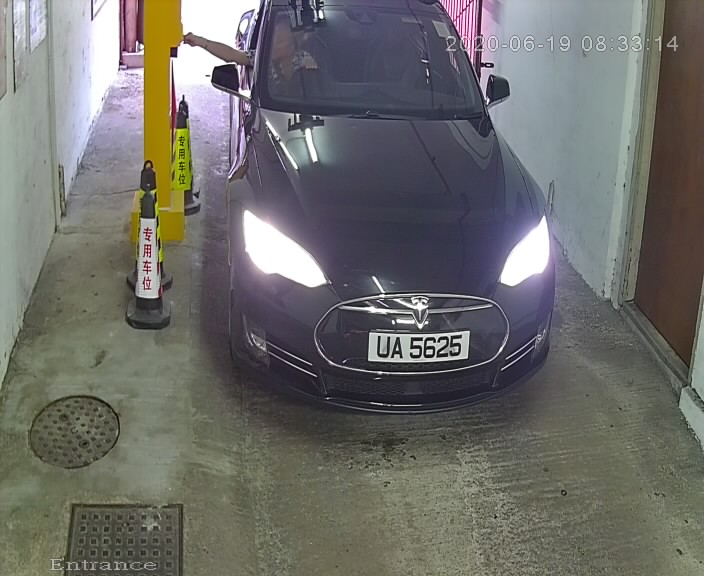bottom_left_lp: (365, 355, 370, 362)
bottom_left_radiator: (321, 349, 335, 364)
bottom_left_windshield: (254, 93, 267, 101)
bottom_right_lp: (465, 355, 472, 361)
bottom_right_radiator: (489, 346, 502, 361)
bottom_right_windshield: (463, 101, 480, 116)
brand: (408, 294, 432, 329)
left_headlight: (236, 206, 332, 291)
right_headlight: (494, 208, 554, 290)
top_left_lp: (366, 331, 371, 335)
top_left_radiator: (325, 298, 342, 316)
top_left_windshield: (260, 1, 270, 16)
top_right_lp: (465, 328, 471, 336)
top_right_radiator: (486, 297, 501, 313)
top_right_windshield: (431, 1, 449, 14)
